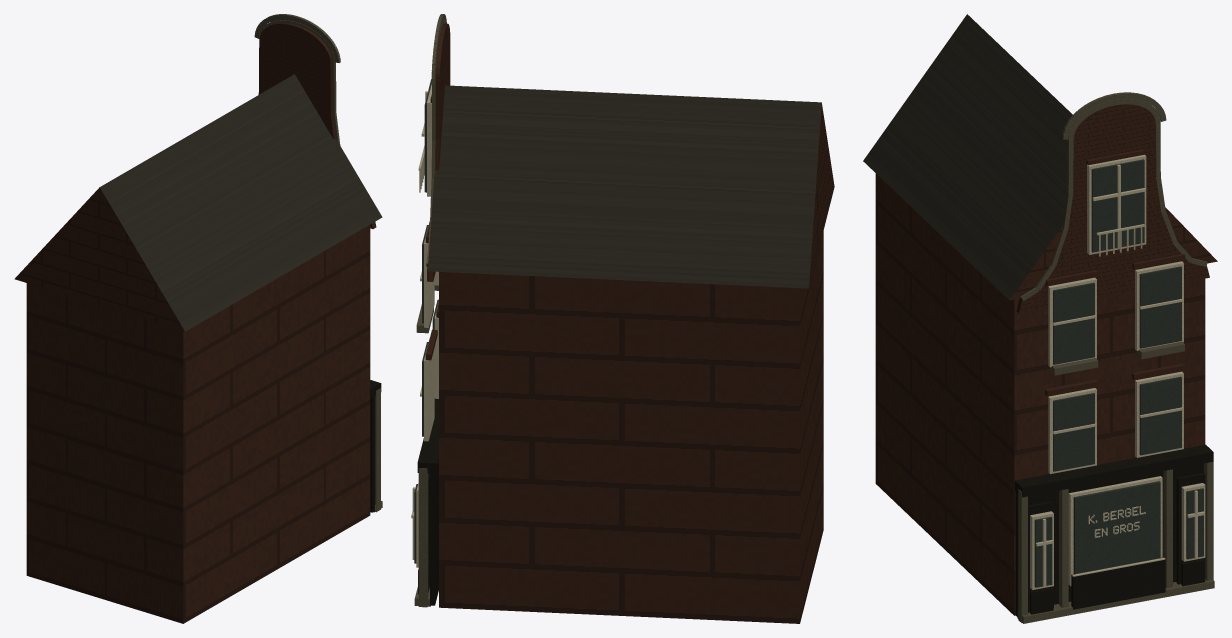
The picture shows the model from 3 angles, left to right: view 1: azimuth 30°, elevation 25°; view 2: azimuth 150°, elevation 25°; view 3: azimuth 270°, elevation 25°; orthographic projection. The views are drawn at different scales.
Visible parts, largest first — view 1: westewagen23-0, westewagen23-1, westewagen23-2, westewagen23-5; view 2: westewagen23-0, westewagen23-1, westewagen23-3, westewagen23-2, westewagen23-5, westewagen23-4; view 3: westewagen23-0, westewagen23-1, westewagen23-4, westewagen23-5, westewagen23-2, westewagen23-3.
Part boxes in pixels (x1,y1,x2,y2): westewagen23-0: (14, 22, 376, 623); westewagen23-1: (100, 74, 382, 331); westewagen23-2: (254, 14, 382, 512); westewagen23-5: (370, 380, 381, 512); westewagen23-0: (425, 23, 834, 623); westewagen23-1: (427, 85, 821, 288); westewagen23-3: (411, 84, 438, 567); westewagen23-2: (414, 14, 446, 607); westewagen23-5: (417, 398, 438, 605); westewagen23-4: (414, 79, 438, 563); westewagen23-0: (875, 104, 1217, 615); westewagen23-1: (863, 14, 1073, 300); westewagen23-4: (1034, 159, 1203, 587); westewagen23-5: (1014, 444, 1213, 616); westewagen23-2: (1017, 92, 1214, 623); westewagen23-3: (1030, 154, 1205, 589).
Size of the model in its own units: 11.33 by 14.73 by 9.33.
Materials: 6 (6 with a texture image).
